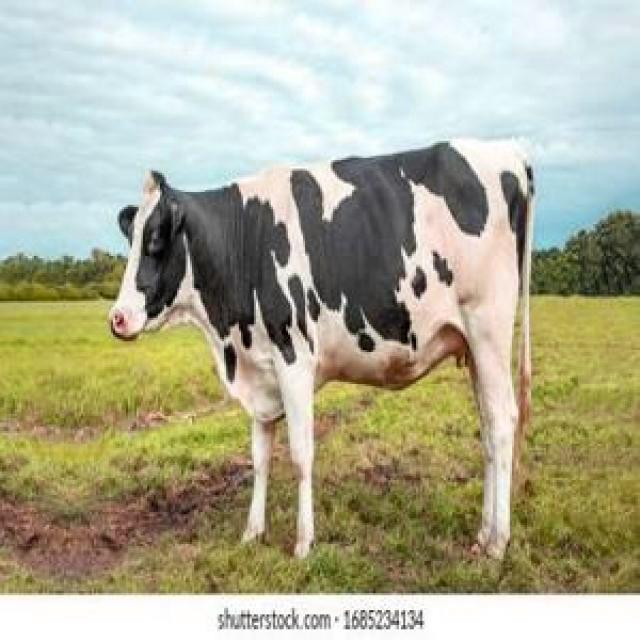cow: (110, 139, 534, 558)
